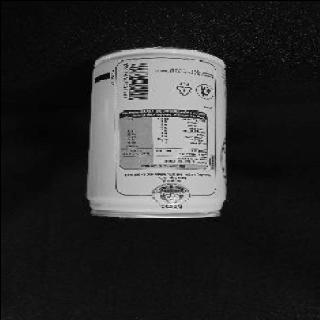alumunium_can: (84, 46, 226, 218)
